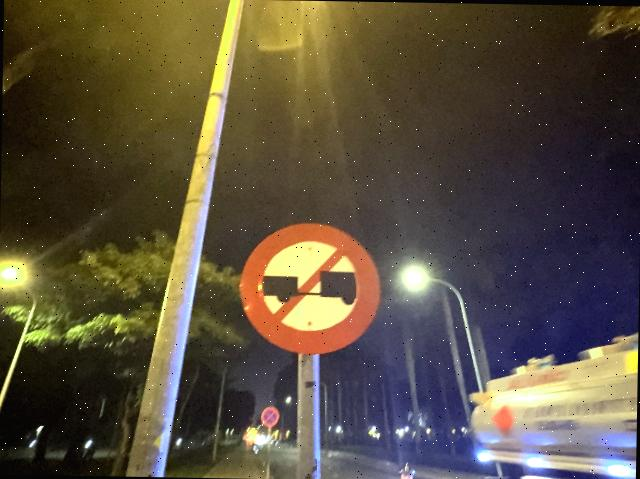cam-xe-somi-romooc: (238, 220, 382, 356)
